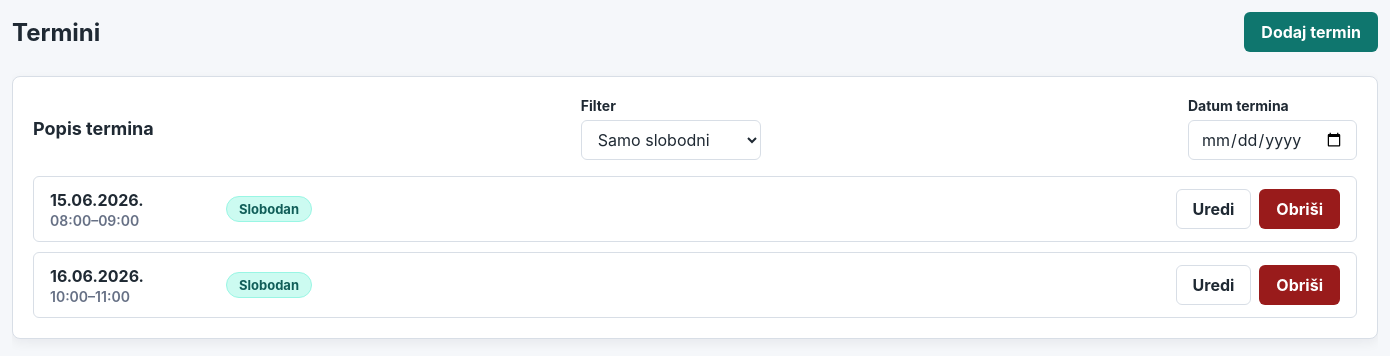
AdminAppointmentsPage › filters appointments by an exact date and can show all dates again when cleared
Step 1. Type "2026-06-16" into the date field labelled "Datum termina" → (1272, 140), box [1188, 120, 1357, 160]
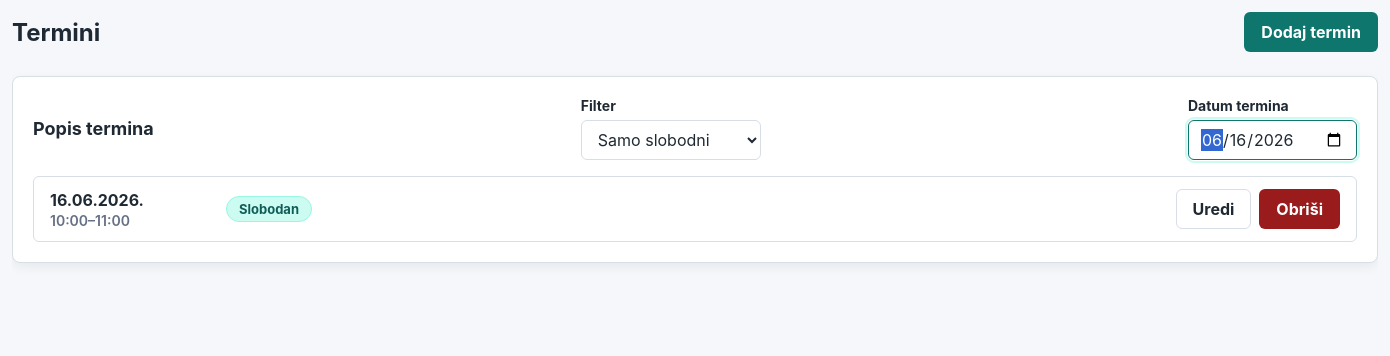
Expected: the text "16.06.2026." is shown, [50, 190, 144, 210]
Expected: the text "15.06.2026." is gone
Step 2. Clear the date field labelled "Datum termina" → (1272, 140), box [1188, 120, 1357, 160]
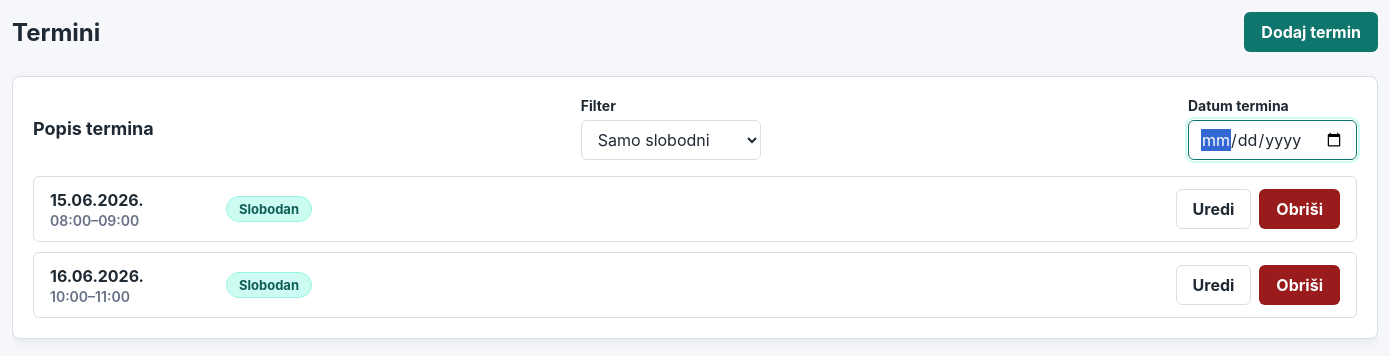
Expected: the text "16.06.2026." is shown, [50, 266, 144, 286]
Expected: the text "15.06.2026." is shown, [50, 190, 144, 210]
